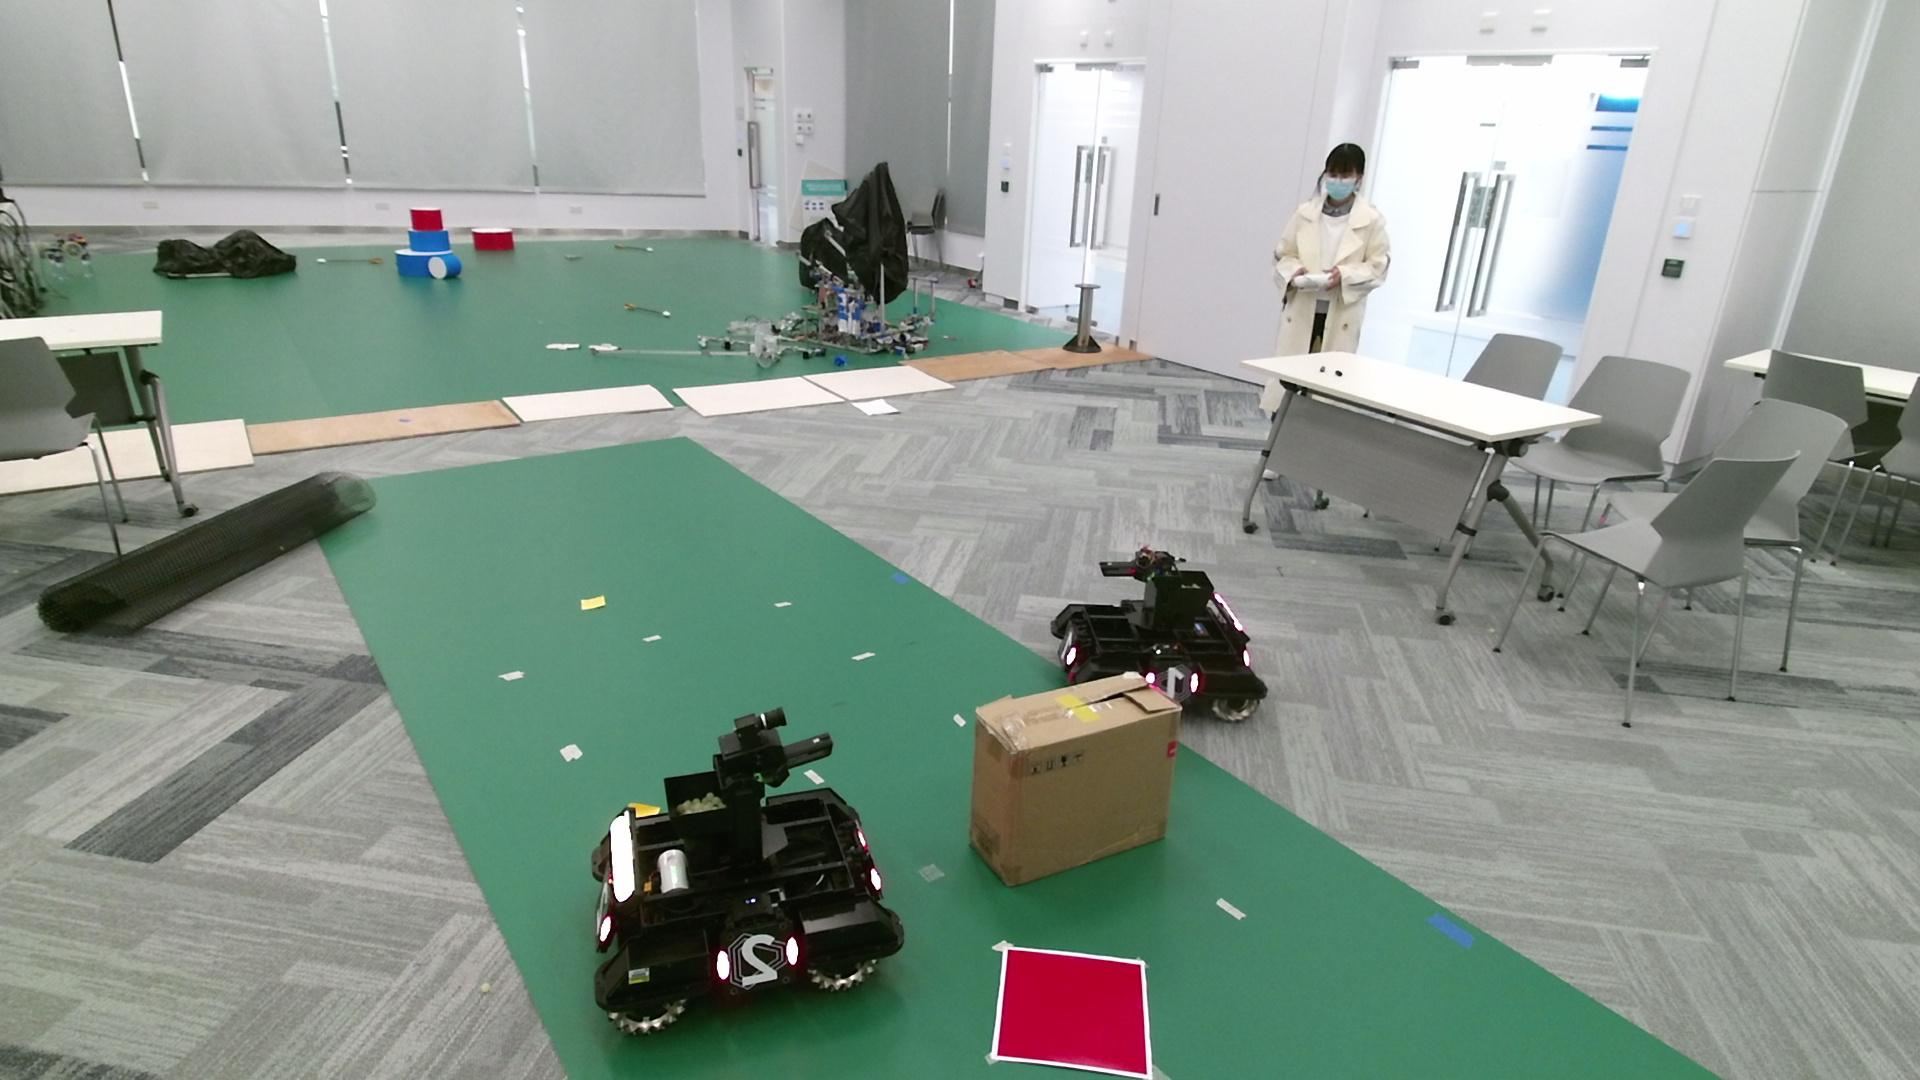robot: (591, 704, 905, 1036), (1050, 545, 1269, 724)
